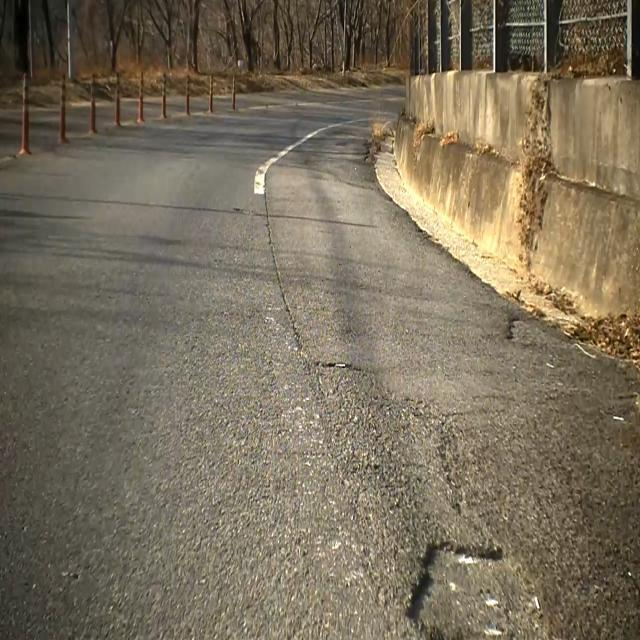Buraco: (398, 536, 556, 640), (502, 314, 577, 354)
